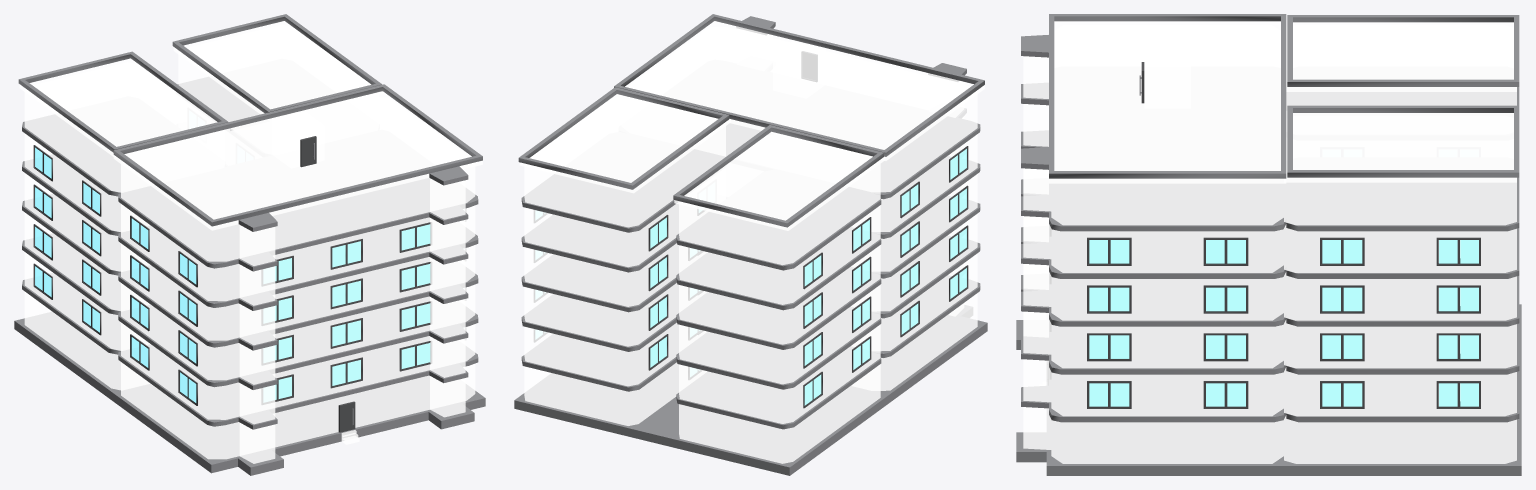
File: apartment.glb
The picture shows the model from 3 angles, left to right: view 1: azimuth 30°, elevation 25°; view 2: azimuth 150°, elevation 25°; view 3: azimuth 270°, elevation 25°; orthographic projection. The views are drawn at different scales.
Visible parts, largest first — view 1: Root; view 2: Root; view 3: Root.
Boxes of the visible parts, x1,y1,x2,y2 form: Root: [14, 14, 485, 475]; Root: [514, 14, 987, 475]; Root: [1016, 14, 1521, 475].
Bounding box in the file's own units: 20.5 × 20.05 × 27.12.
